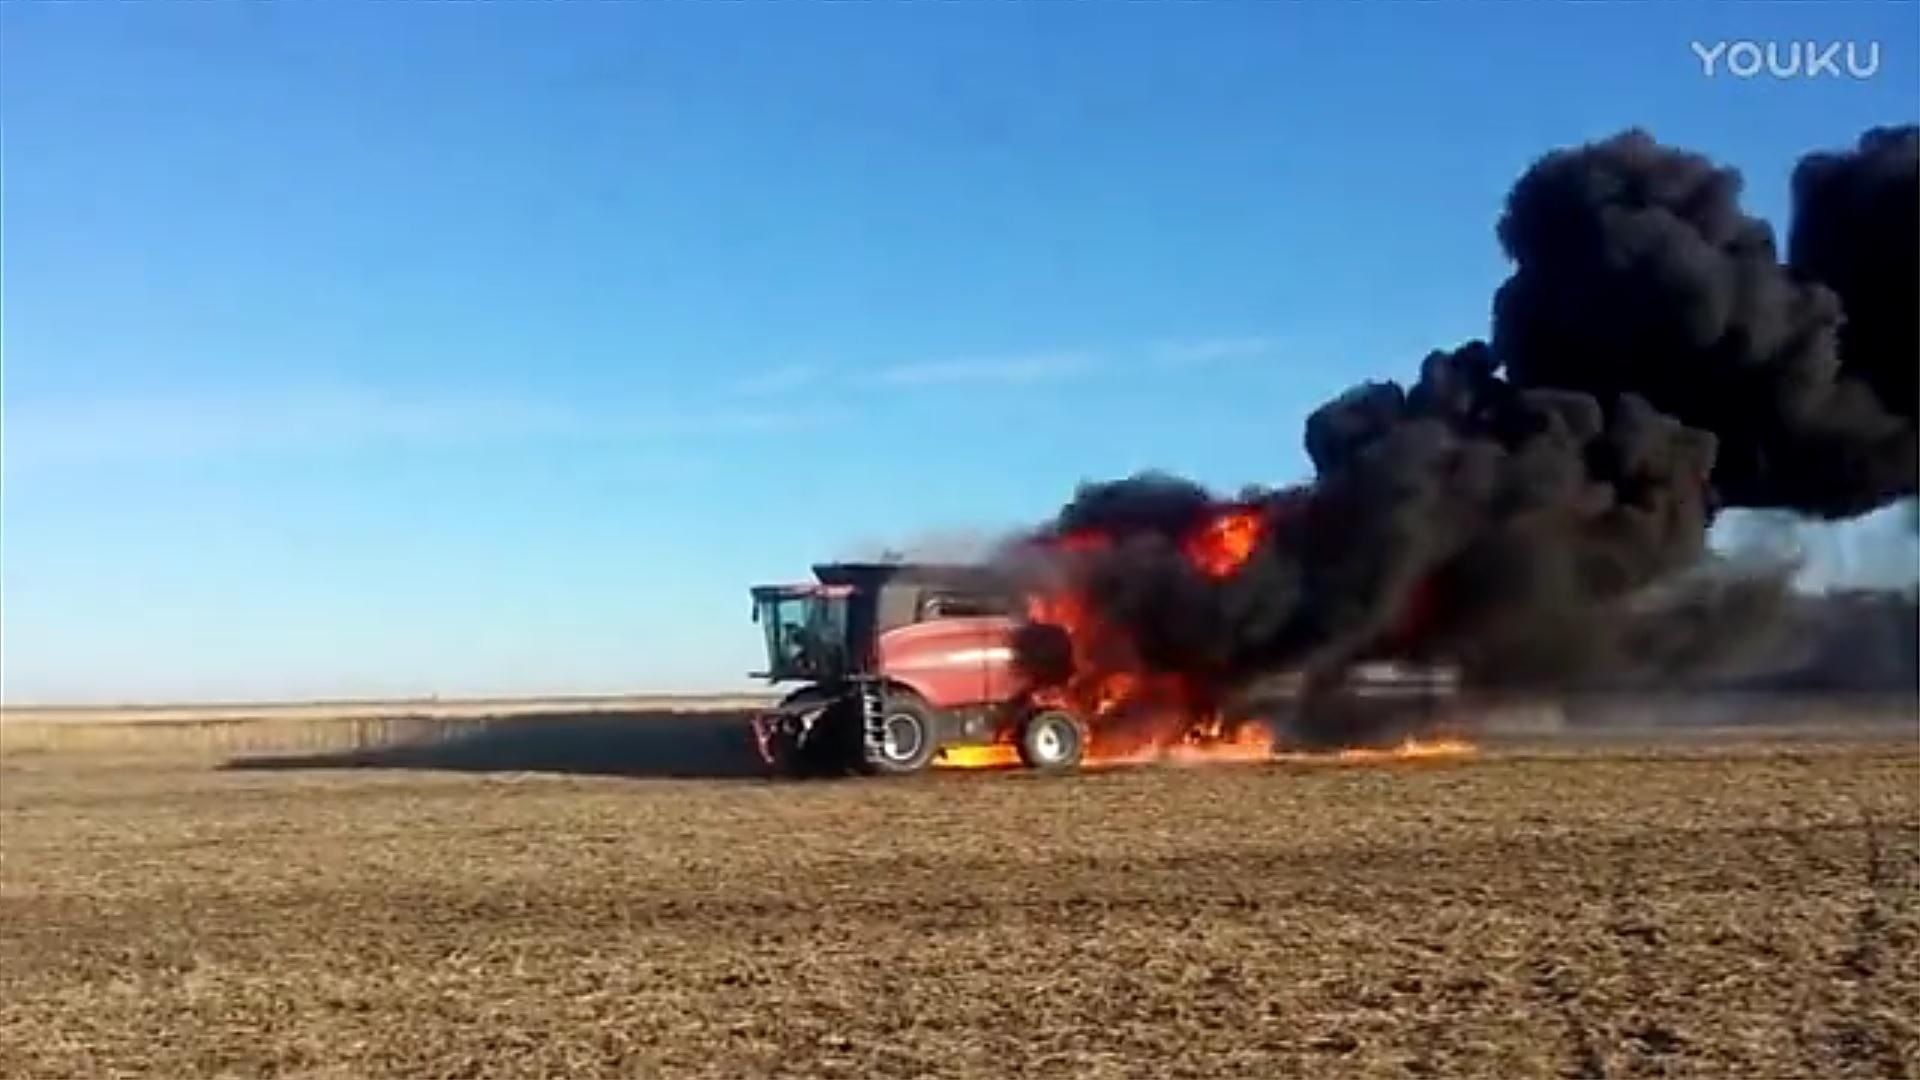fire: (910, 495, 1290, 771)
